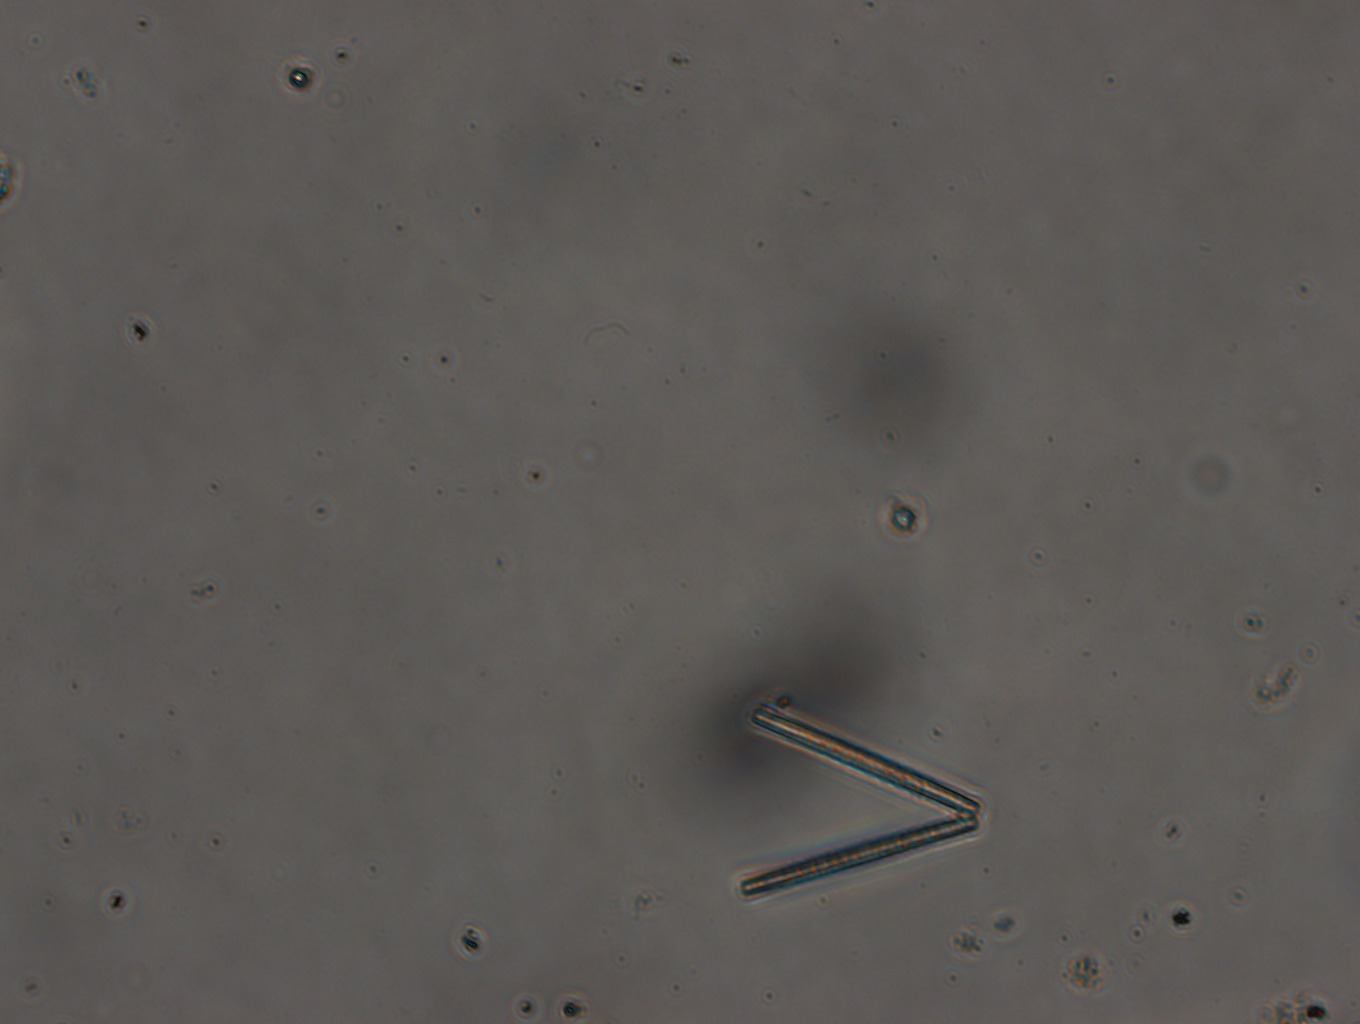thalassionema nitzschioides: (736, 703, 979, 898)
